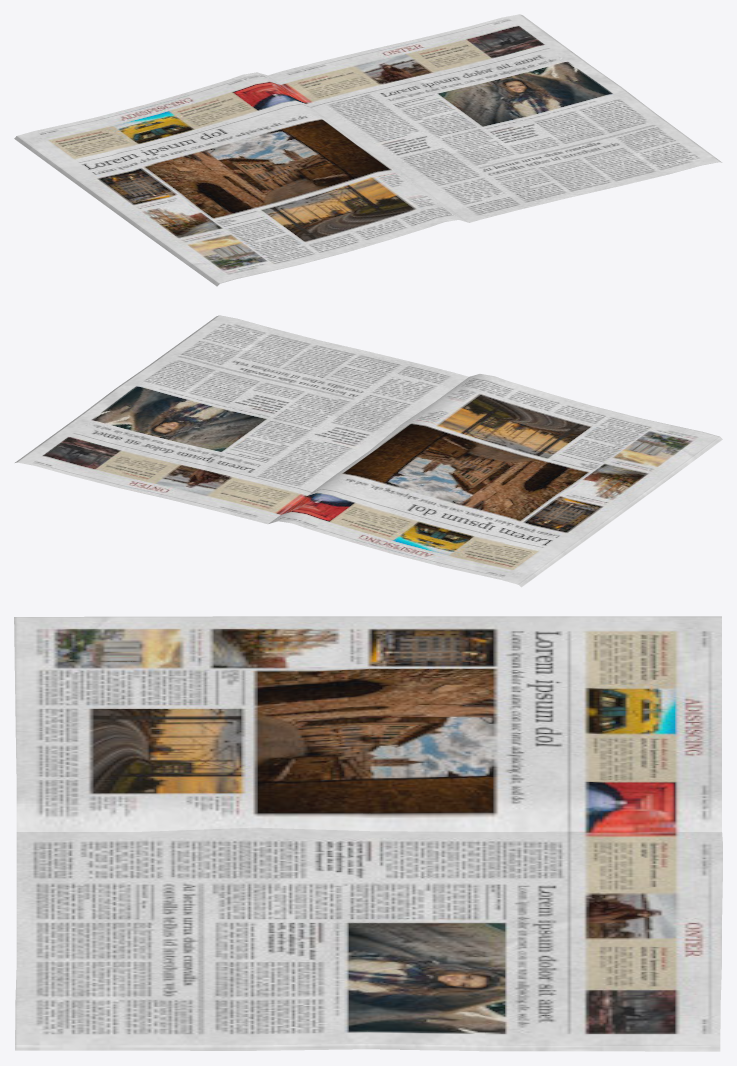
The model's file is sweethome3d-scopia-opened-newspaper.glb.
3 views of the same model, one above another, from view 1: azimuth 30°, elevation 25°; view 2: azimuth 150°, elevation 25°; view 3: azimuth 270°, elevation 25° (orthographic). The views are drawn at different scales.
Parts seen in each view (by area): view 1: Plane; view 2: Plane; view 3: Plane.
Part boxes in pixels (x1,y1,x2,y2): Plane: [14, 14, 722, 286]; Plane: [15, 315, 722, 587]; Plane: [14, 616, 722, 1051].
Bounding box in the file's own units: 58.25 × 0.924 × 40.23.
1 material, 1 textured.
